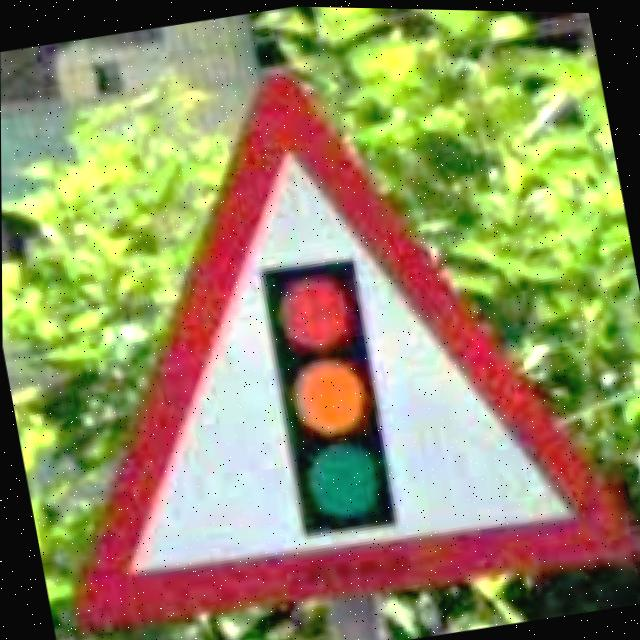signalahead: (72, 65, 638, 632)
